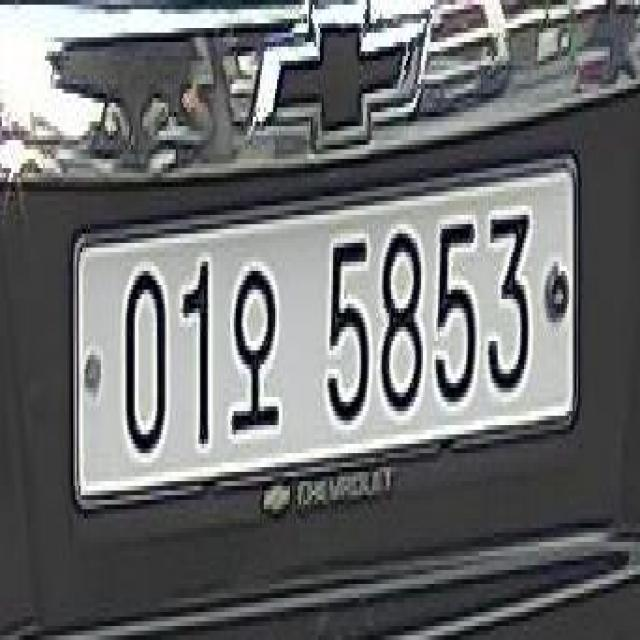illegal_plate: (71, 155, 586, 536)
